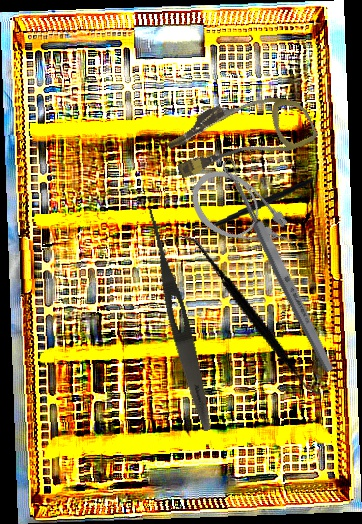Cannula: (161, 73, 320, 196), (179, 158, 306, 275)
Chopper: (193, 177, 318, 242)
Dressing Forceps: (137, 203, 219, 434)
Spatula Surgical: (144, 233, 356, 398)
Surgical Spoon: (220, 157, 337, 375)
